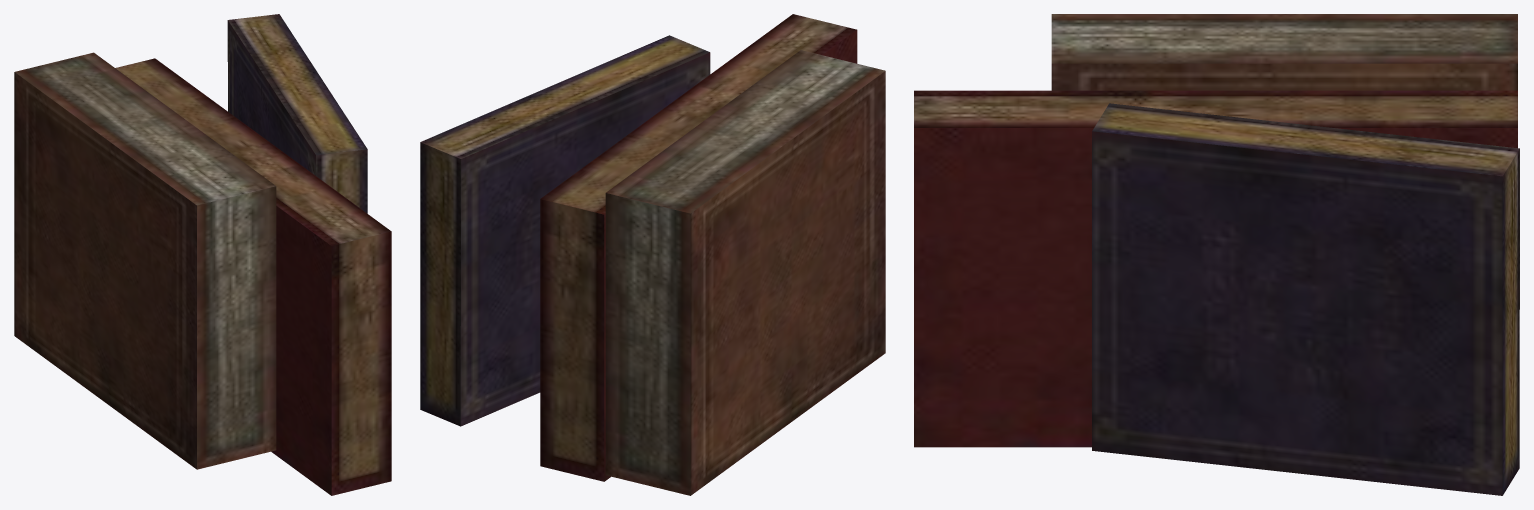
Rendered from prop_book2.glb.
The picture shows the model from 3 angles, left to right: view 1: azimuth 30°, elevation 25°; view 2: azimuth 150°, elevation 25°; view 3: azimuth 270°, elevation 25°; orthographic projection. The views are drawn at different scales.
Bounding box in the file's own units: 9.27 × 9.25 × 14.7.
Materials: 1 (1 with a texture image).
